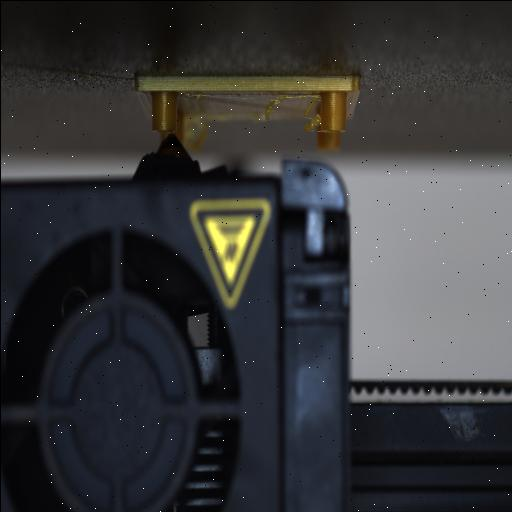stringing: (262, 92, 316, 119)
